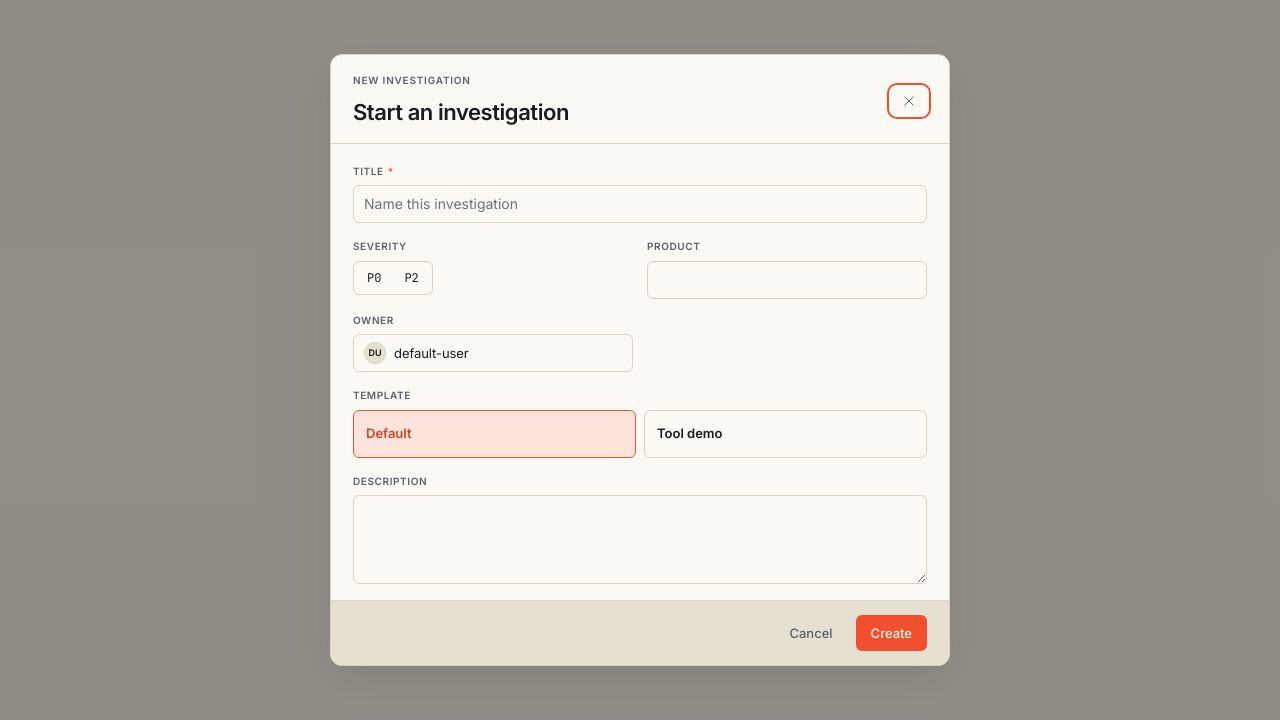
Test: AppNewItem › asks before dropping a half-filled create form, on Escape and on the close button
Type "Oven drift" into the field named "title" at (640, 204), box [353,185,927,223]
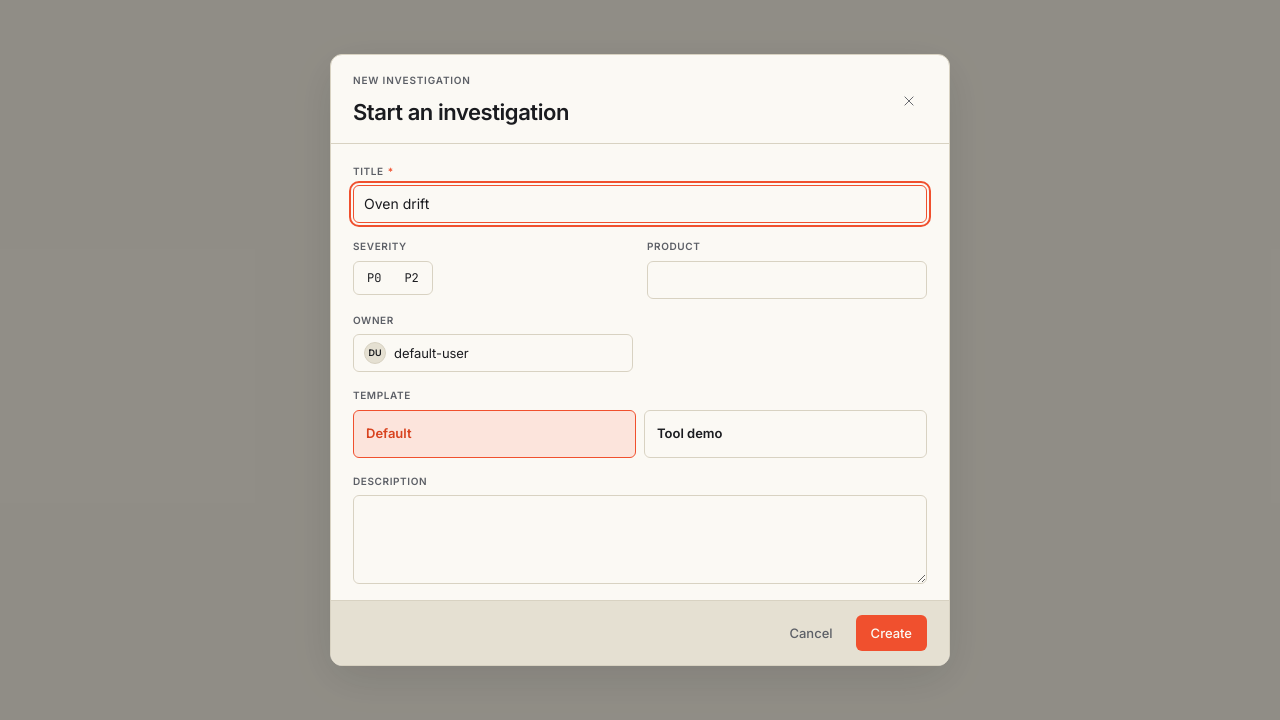
Press Escape
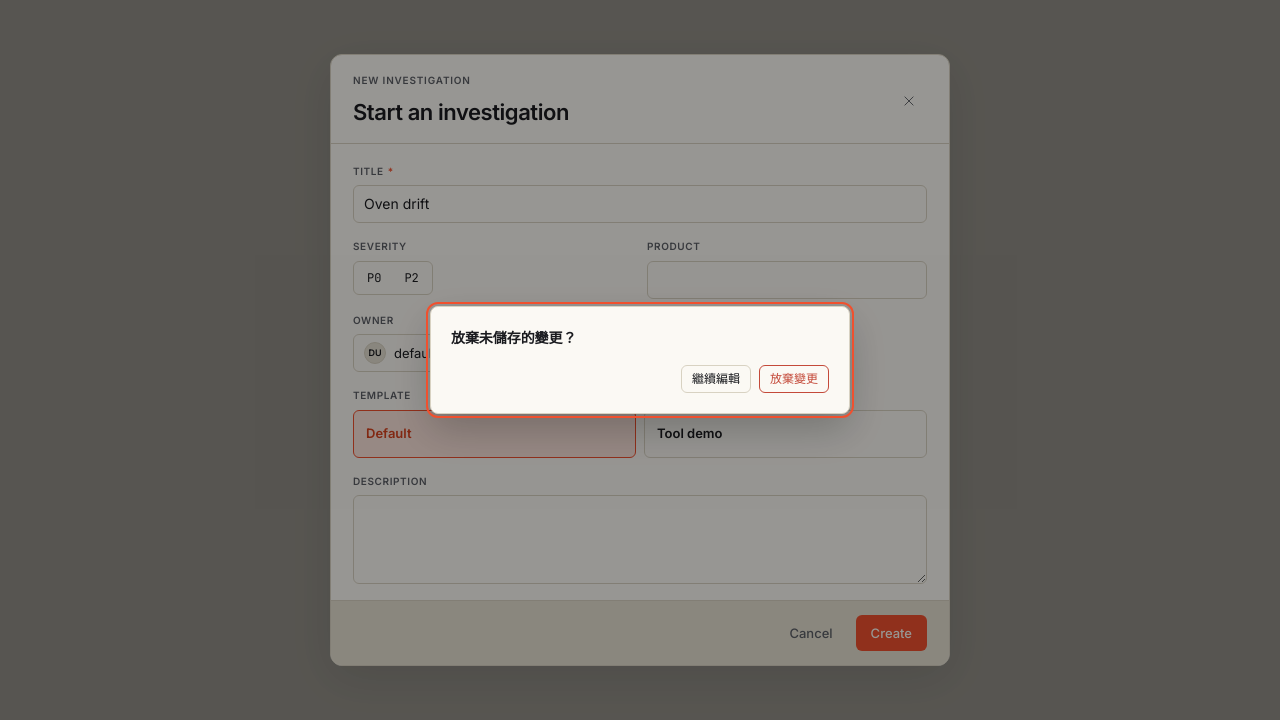
Click the button with test id "dialog-action-keep" at (716, 379), box [681,365,751,393]
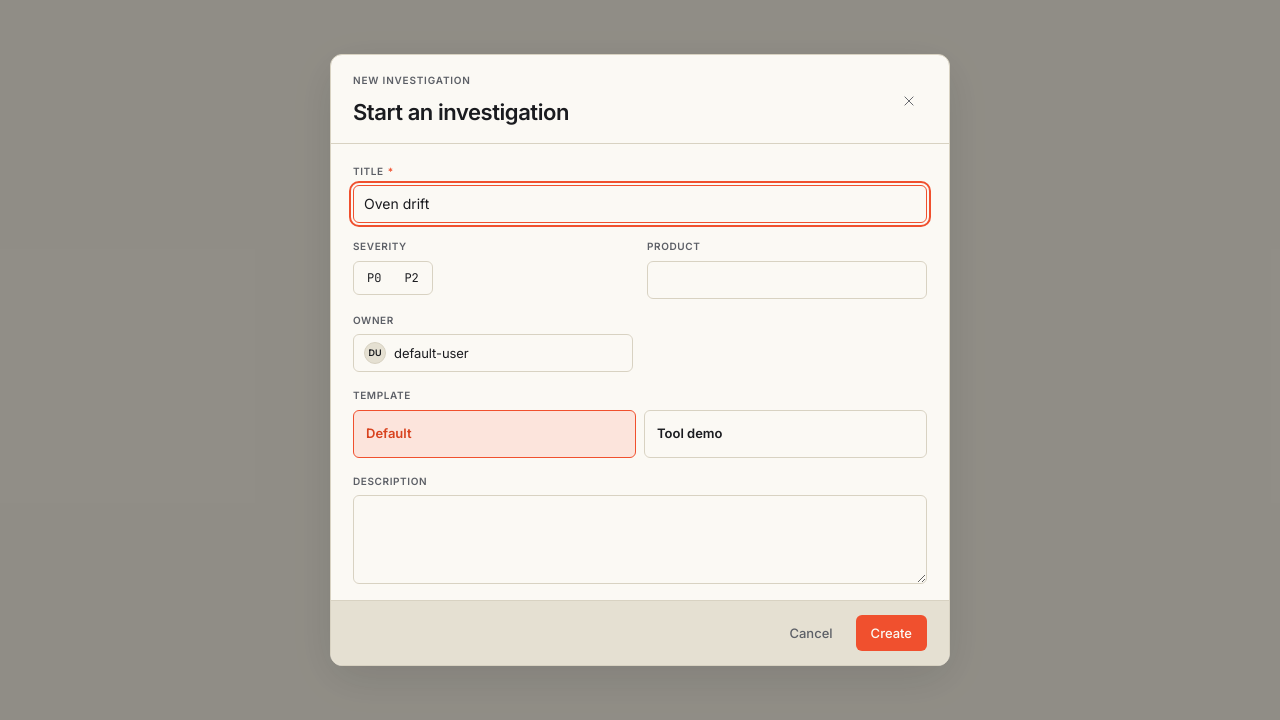
Click the button named "Close" at (909, 101), box [891,87,927,115]
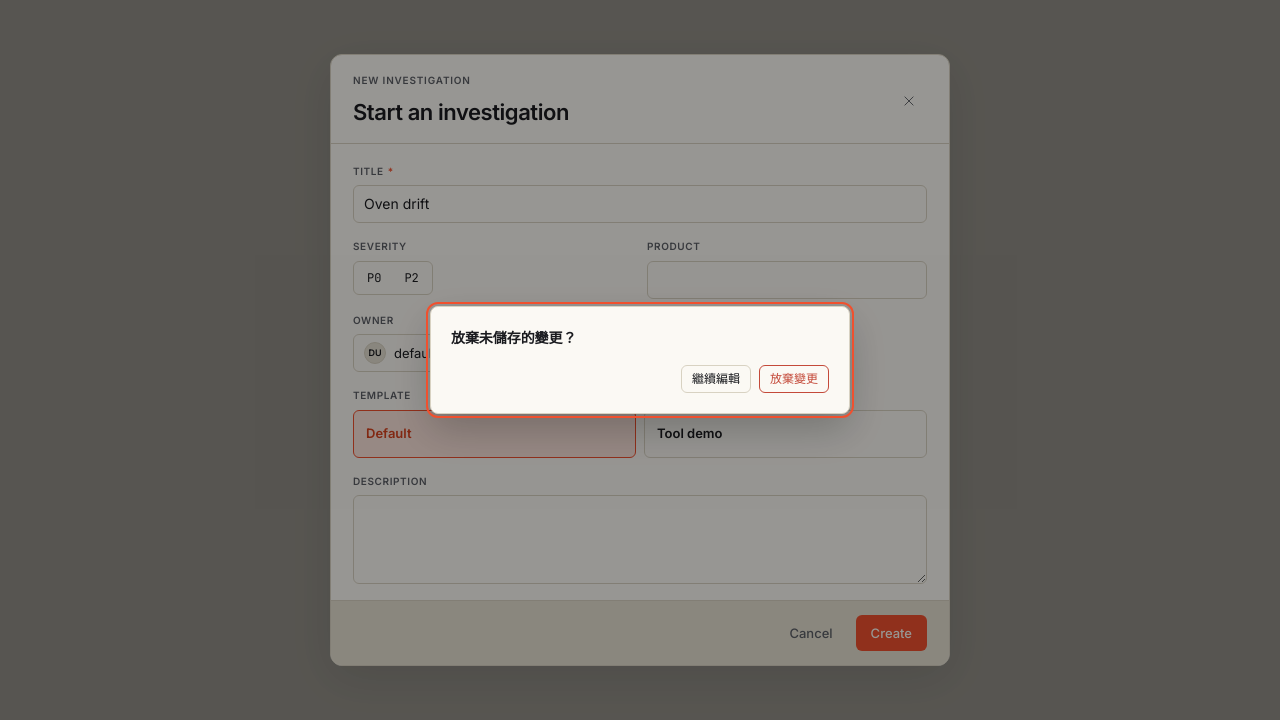
Expected: the button with test id "dialog-action-discard" is shown, [759,365,829,393]
